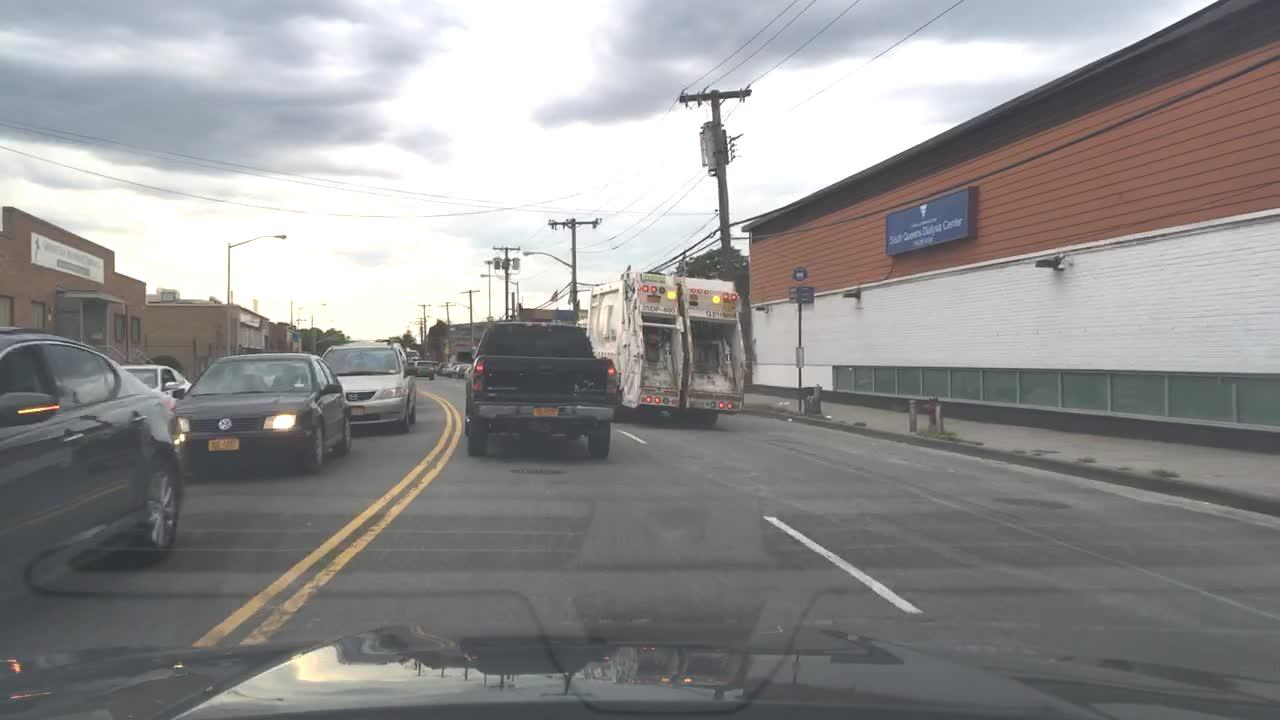Volkswagen: (215, 415, 234, 432)
